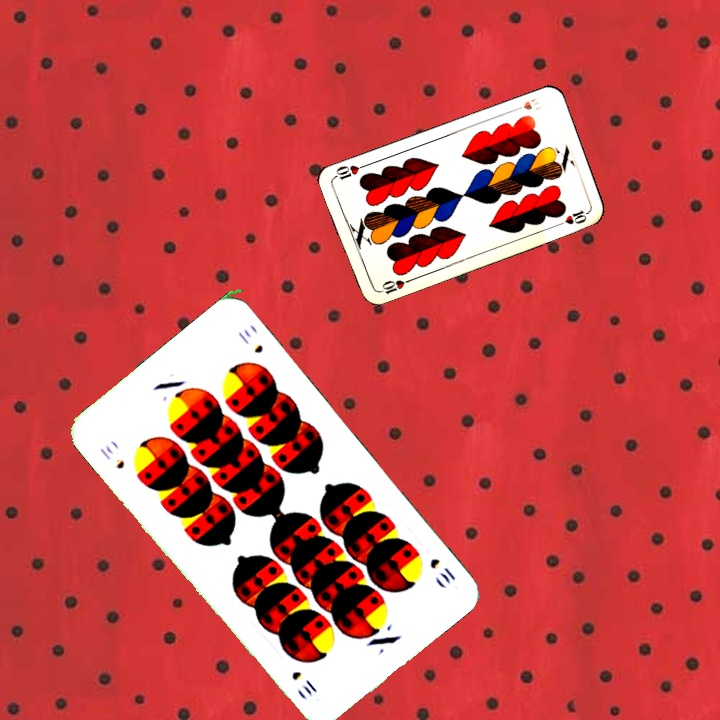H10: (374, 275, 413, 297), (509, 93, 546, 114)
S10: (425, 554, 458, 587), (95, 441, 127, 472)
